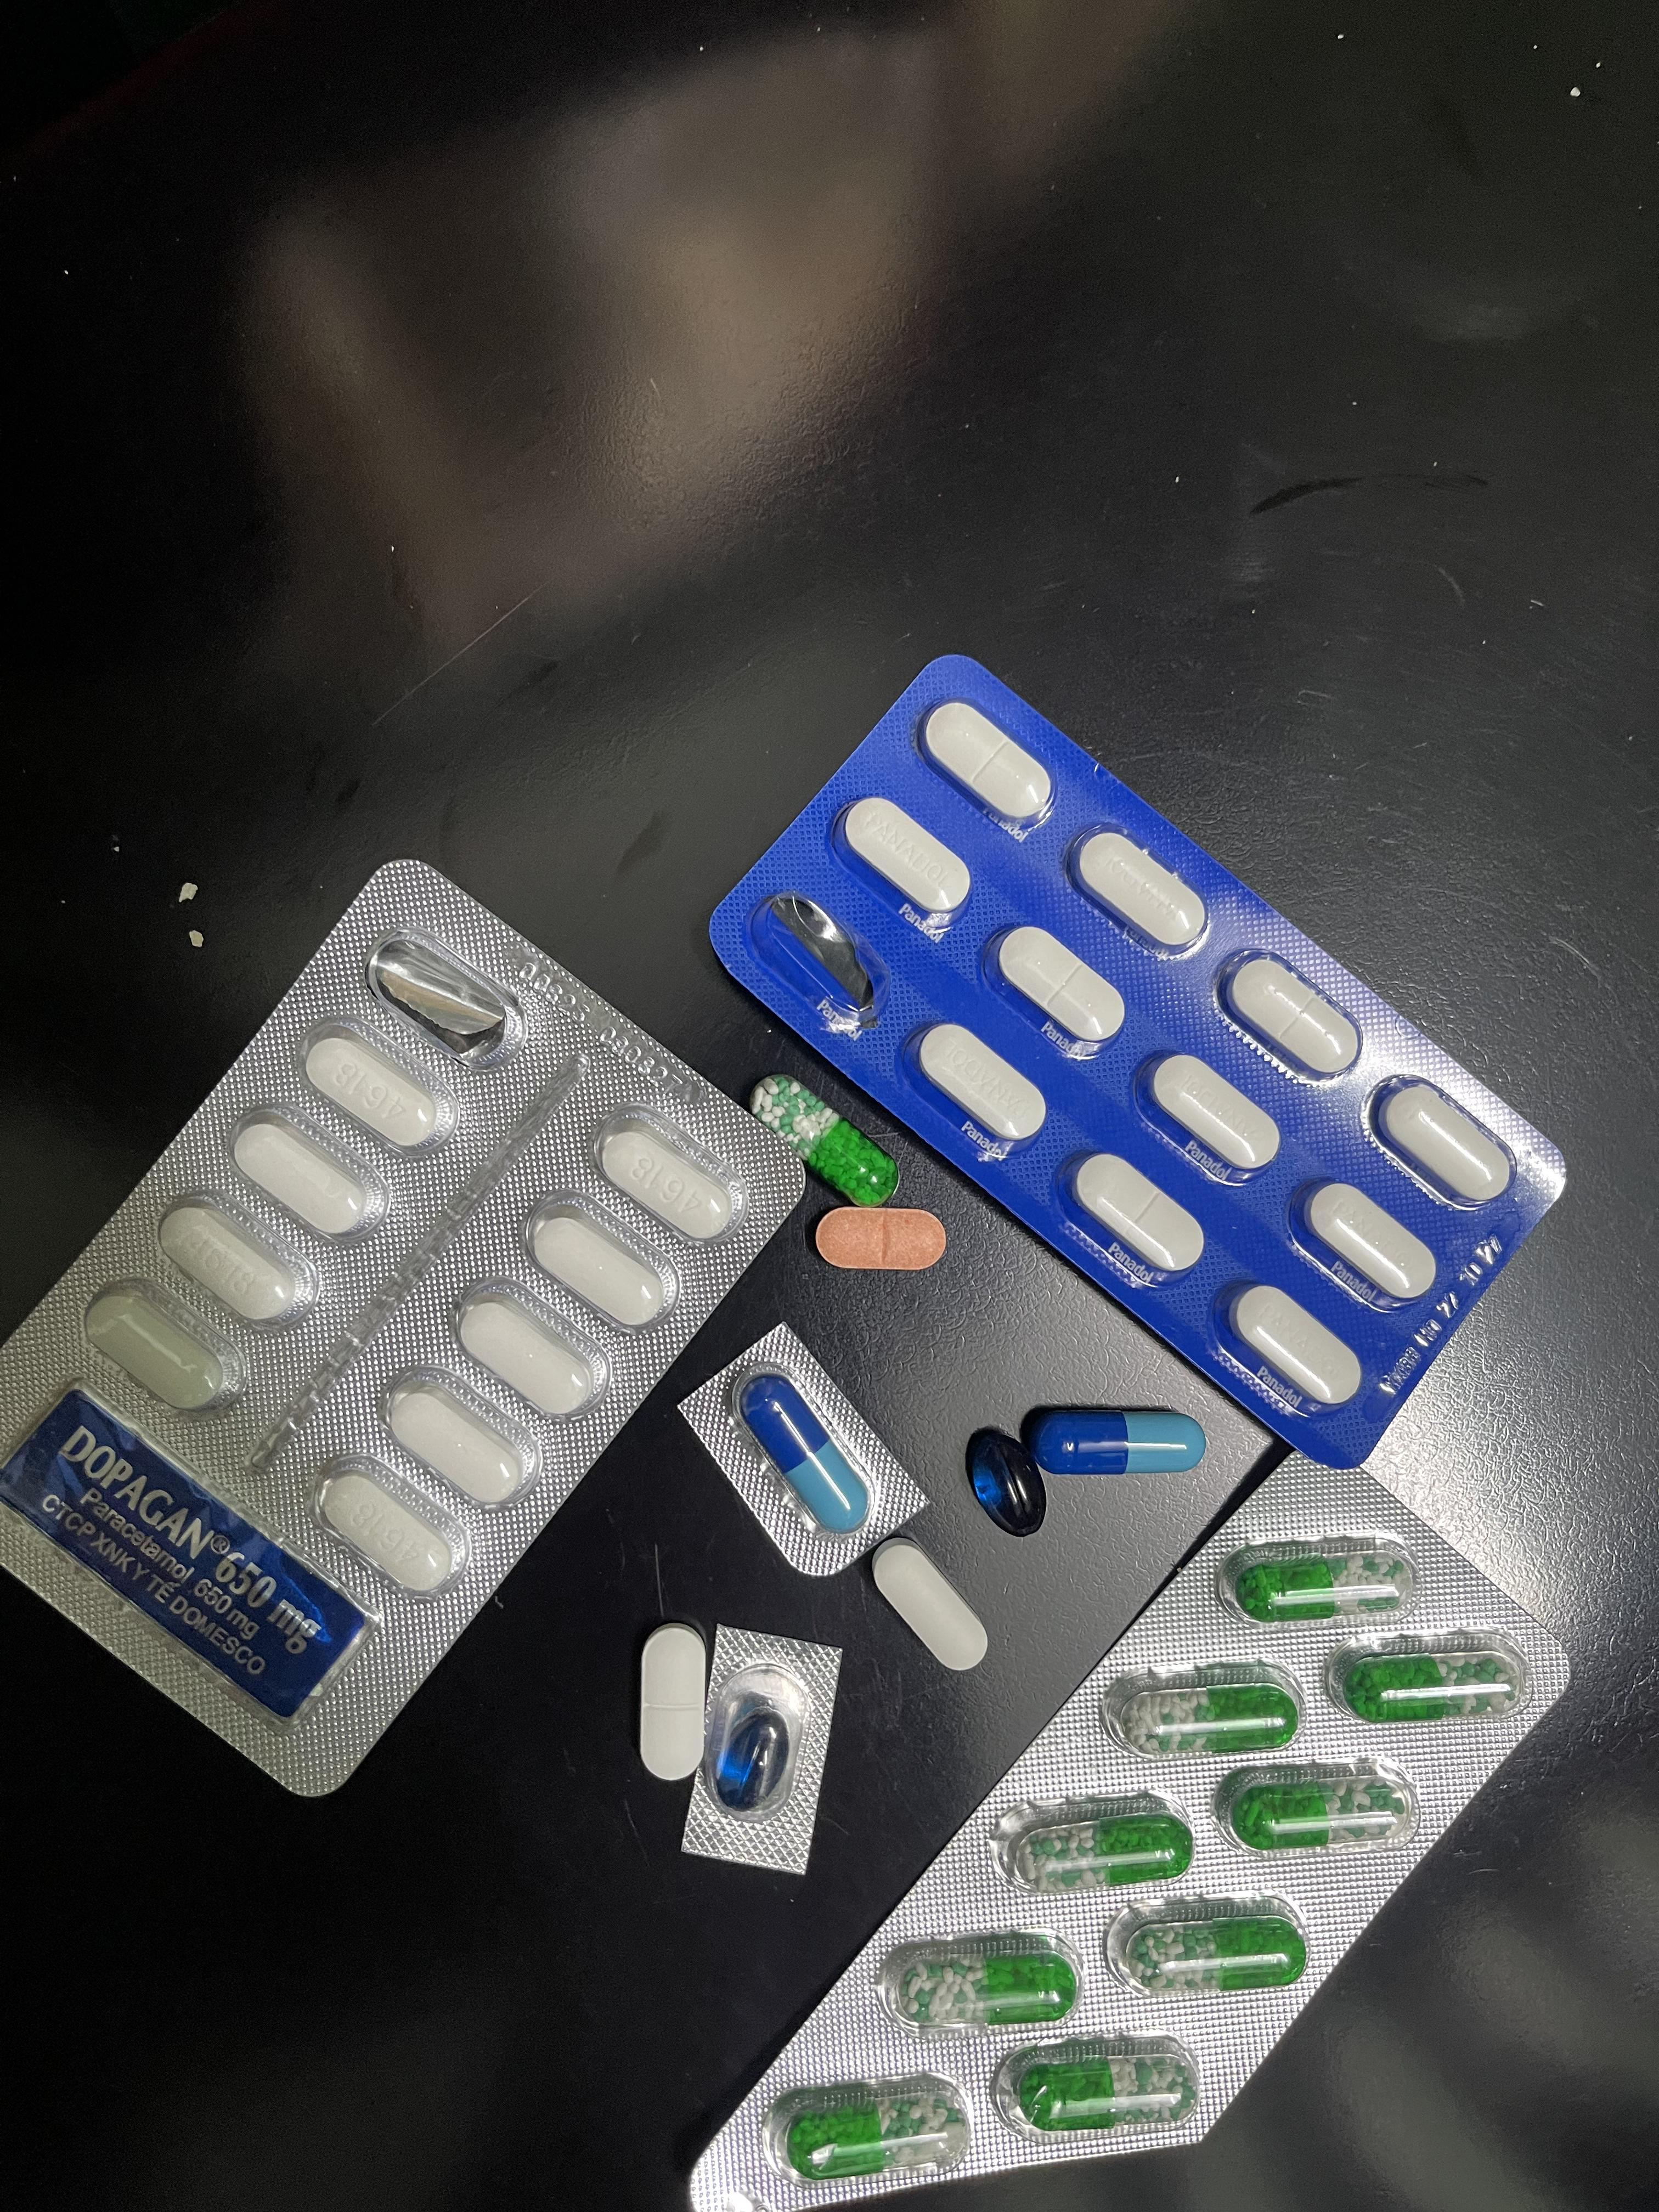Lincomyxin_500mg: (965, 1426, 1051, 1536), (714, 1710, 788, 1811)
Loratadine_10mg: (814, 1207, 945, 1271)
Paracetamol_350mg: (1370, 1078, 1520, 1207), (1070, 829, 1211, 956), (1295, 1179, 1439, 1303), (1218, 1282, 1361, 1406), (1136, 1052, 1276, 1176), (1223, 954, 1363, 1078), (836, 798, 971, 923), (1066, 1153, 1204, 1275), (910, 1024, 1046, 1146), (922, 700, 1053, 824), (992, 927, 1126, 1045), (638, 1622, 711, 1778)
Paracetamol_500mg: (82, 1278, 247, 1420), (312, 1454, 469, 1599), (155, 1191, 315, 1332), (296, 1019, 458, 1158), (453, 1277, 610, 1420), (228, 1108, 387, 1247), (383, 1367, 540, 1507), (596, 1104, 746, 1242), (532, 1216, 664, 1332), (870, 1540, 986, 1667)
Paracetamol_650mg: (772, 2074, 967, 2184), (993, 2034, 1197, 2137), (878, 1932, 1079, 2036), (1108, 1897, 1310, 1996), (993, 1792, 1194, 1892), (1213, 1761, 1419, 1853), (756, 1073, 892, 1212), (1105, 1662, 1304, 1754), (1324, 1632, 1530, 1721), (1218, 1534, 1424, 1620)
pill: (737, 1372, 861, 1538), (1025, 1402, 1209, 1475)
